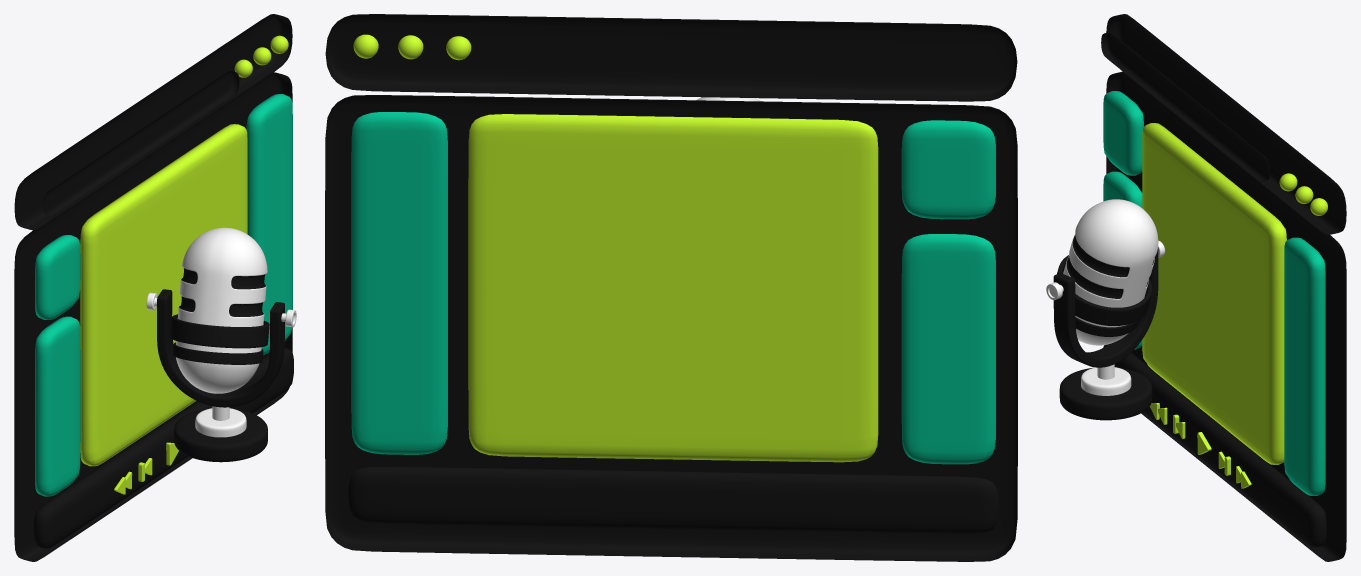
File: podcast-hosting-platform-3d-animated-icon-1654342743734.glb
The picture shows the model from 3 angles, left to right: view 1: azimuth 30°, elevation 25°; view 2: azimuth 150°, elevation 25°; view 3: azimuth 270°, elevation 25°; orthographic projection. The views are drawn at different scales.
Parts seen in each view (by area): view 1: Plane.004, Plane.120, Plane.121, Sphere.049, Plane.002, Plane.122, Plane.005, Plane.164, Sphere.052, Sphere.050, Plane.006, Cylinder.168 (+3 smaller); view 2: Plane.004, Plane.120, Plane.121, Plane.122, Plane.002, Plane.005, Plane.006, Sphere.048; view 3: Plane.004, Plane.120, Plane.002, Plane.121, Sphere.049, Plane.122, Plane.164, Sphere.052, Cylinder.168, Plane.006, Sphere.050, Cylinder.167 (+2 smaller).
Boxes of the visible parts, x1,y1,x2,y2 form: Plane.004: [80, 124, 247, 466]; Plane.120: [14, 72, 292, 561]; Plane.121: [14, 14, 292, 230]; Sphere.049: [176, 227, 267, 393]; Plane.002: [246, 94, 292, 354]; Plane.122: [33, 348, 293, 548]; Plane.005: [35, 316, 80, 496]; Plane.164: [43, 70, 239, 216]; Sphere.052: [157, 289, 284, 407]; Sphere.050: [170, 314, 269, 364]; Plane.006: [35, 235, 80, 319]; Cylinder.168: [174, 408, 267, 462]; Plane.004: [468, 114, 878, 462]; Plane.120: [325, 95, 1017, 561]; Plane.121: [325, 14, 1017, 101]; Plane.122: [348, 467, 998, 533]; Plane.002: [351, 112, 447, 454]; Plane.005: [901, 234, 995, 464]; Plane.006: [901, 120, 995, 219]; Sphere.048: [353, 34, 471, 60]; Plane.004: [1142, 123, 1286, 464]; Plane.120: [1106, 71, 1346, 561]; Plane.002: [1284, 237, 1325, 495]; Plane.121: [1106, 14, 1346, 234]; Sphere.049: [1063, 199, 1158, 345]; Plane.122: [1103, 344, 1326, 547]; Plane.164: [1101, 32, 1269, 182]; Sphere.052: [1053, 247, 1158, 367]; Cylinder.168: [1059, 367, 1152, 420]; Plane.006: [1103, 91, 1143, 175]; Sphere.050: [1057, 255, 1152, 336]; Cylinder.167: [1081, 364, 1131, 395].
Size of the model in its own units: 5.44 by 5.13 by 3.7.
